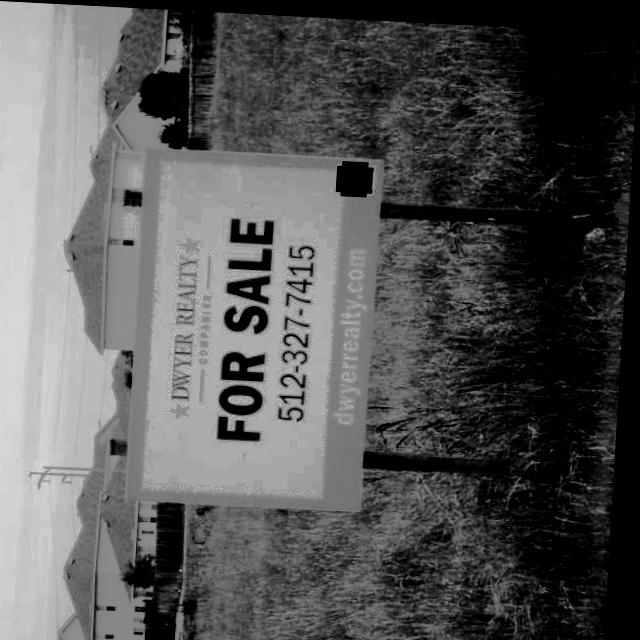qr_code: (341, 158, 372, 191)
